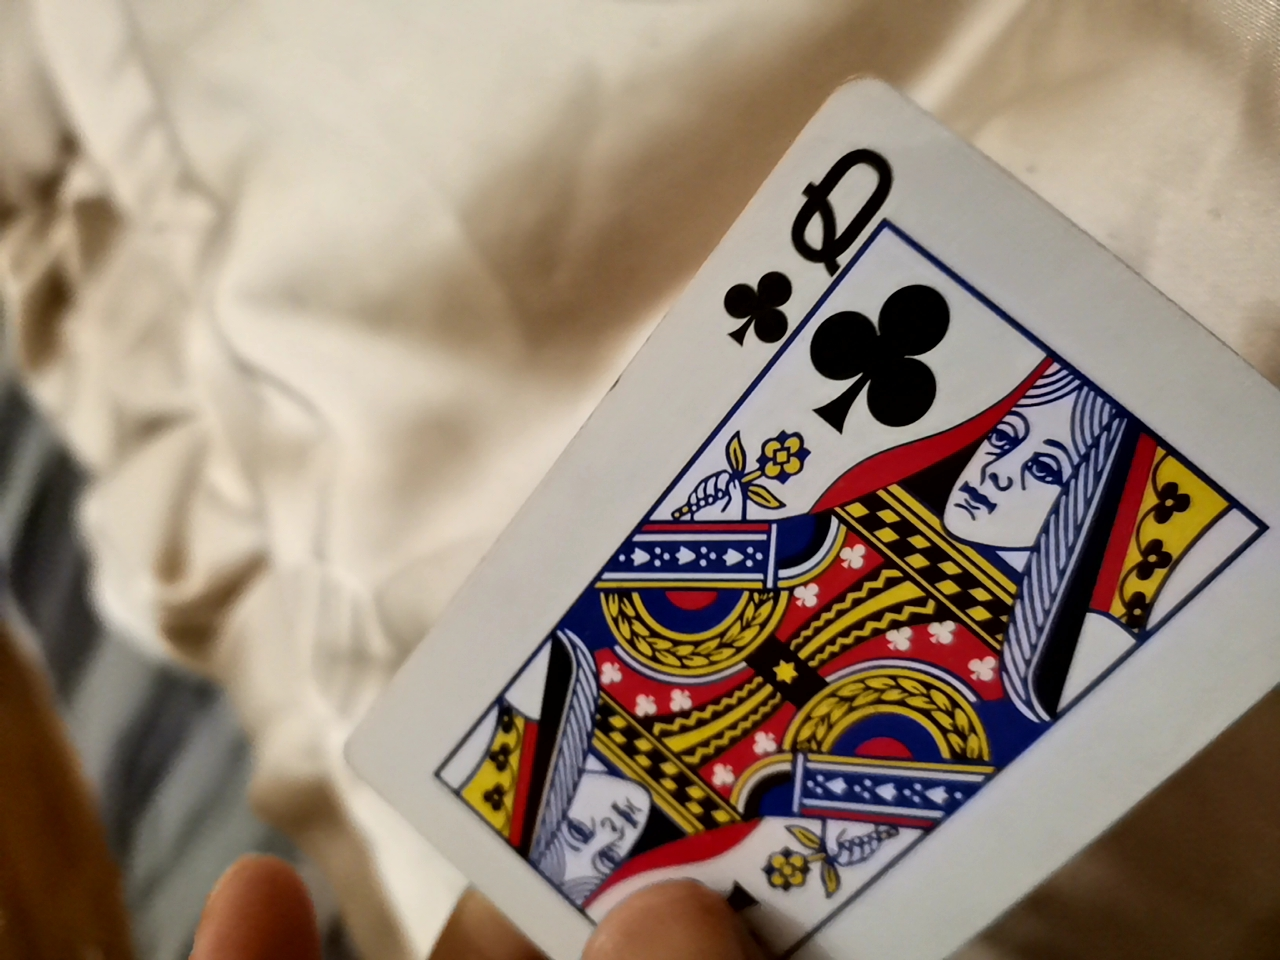mh q: (331, 49, 1268, 952)
